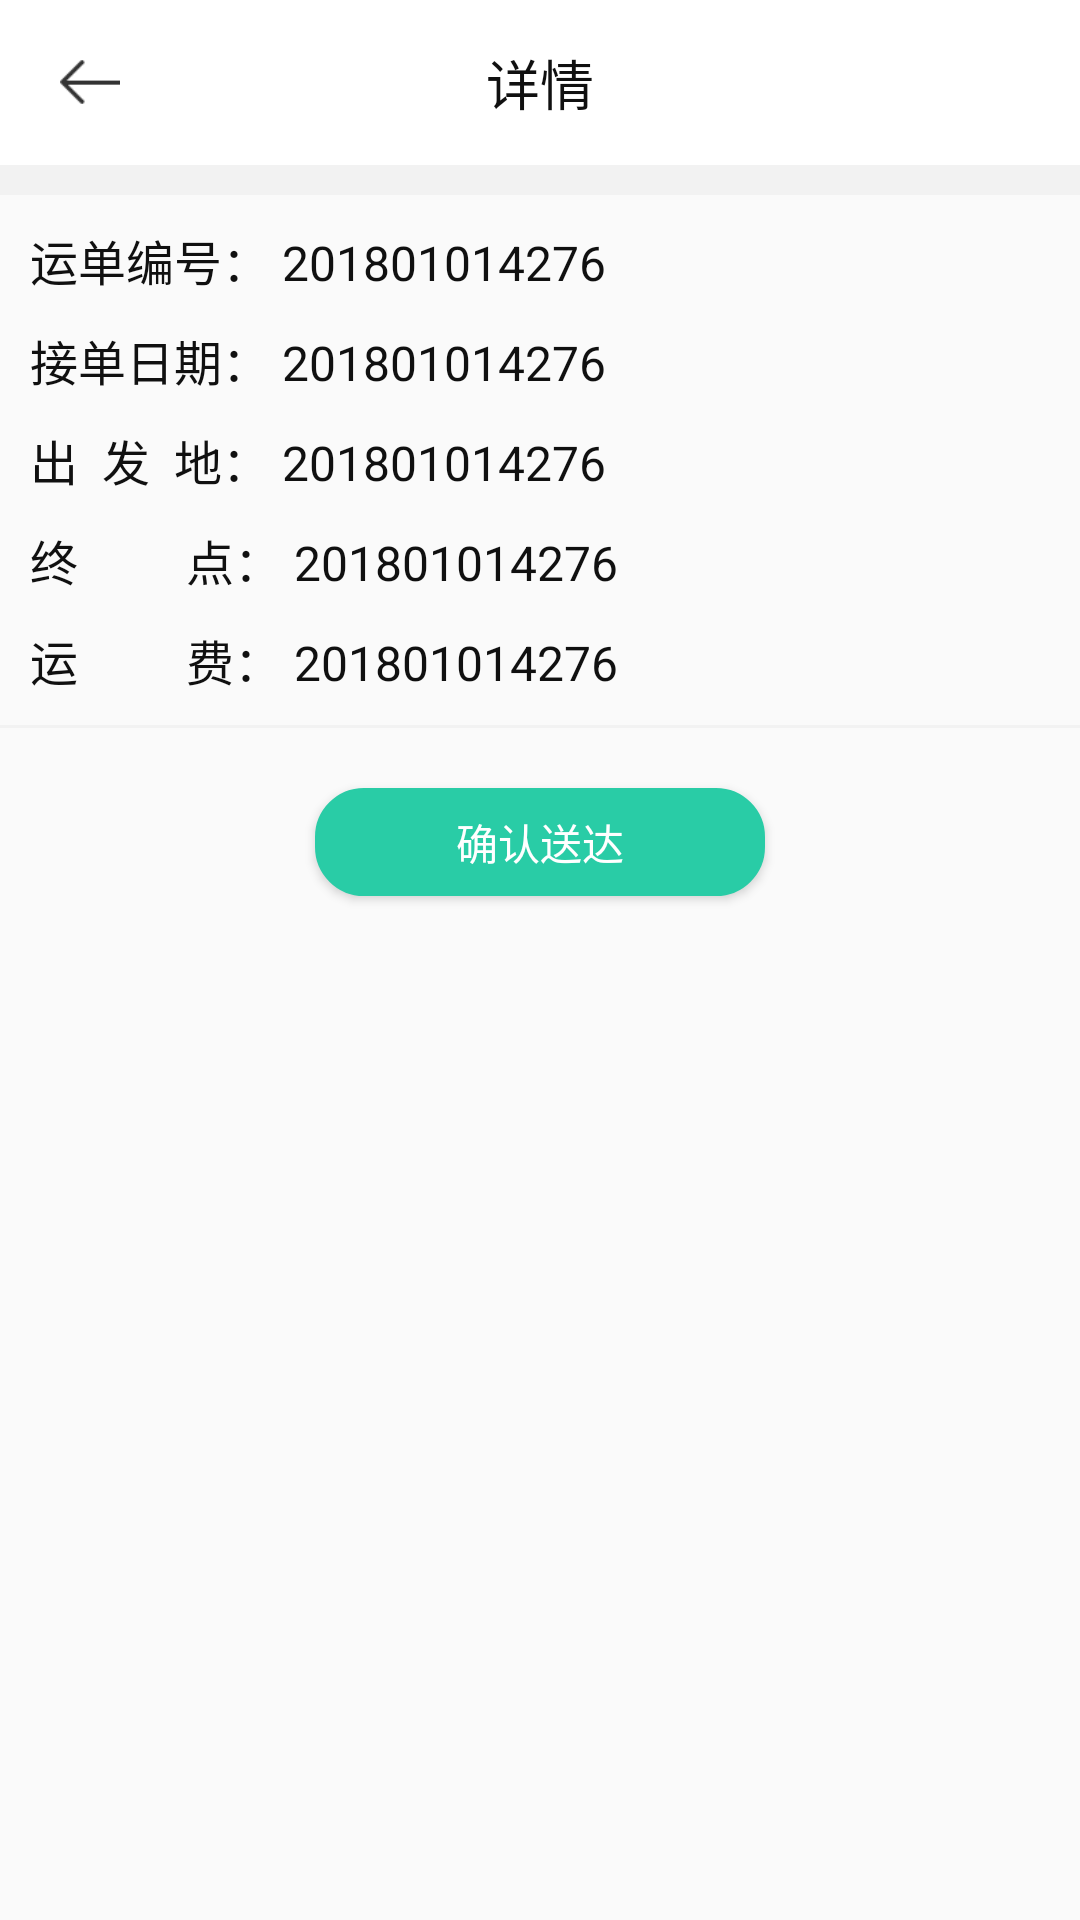

Icons on this 1080×1920 Android screen, each with its box as (x1, y1, x2, y2):
pre: (60, 60, 120, 104)
